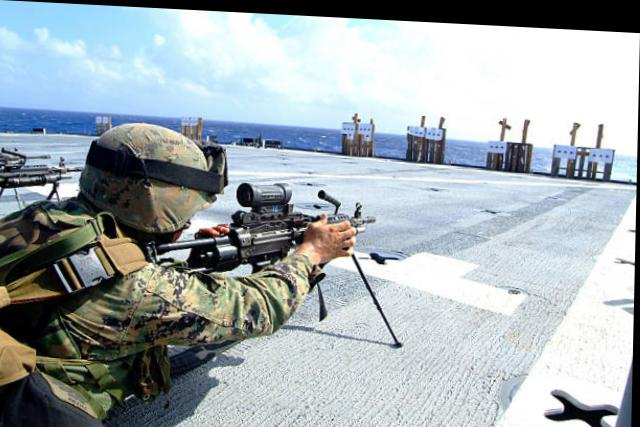other: (0, 109, 280, 426)
